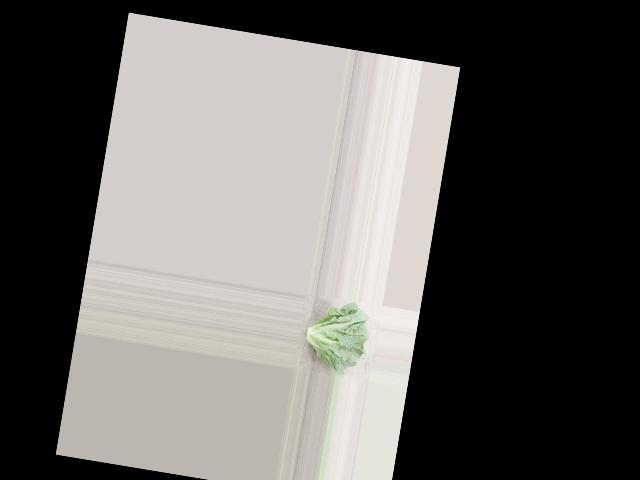lettuce: (295, 296, 375, 378)
